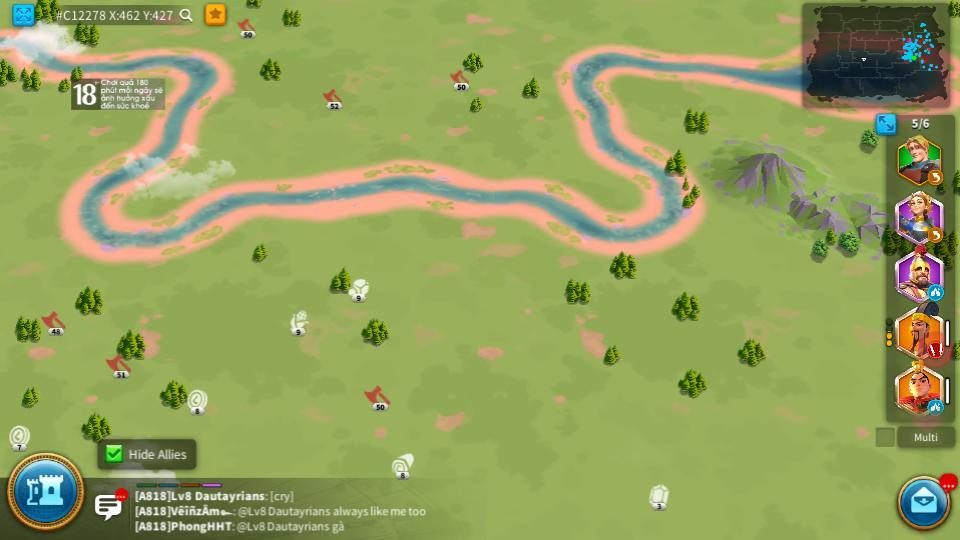gem-z-out: (646, 485, 671, 510)
march_attacking: (928, 351, 941, 359)
march_idle: (927, 401, 945, 413), (929, 284, 942, 299)
march_returning: (927, 170, 944, 185), (928, 230, 941, 242)
